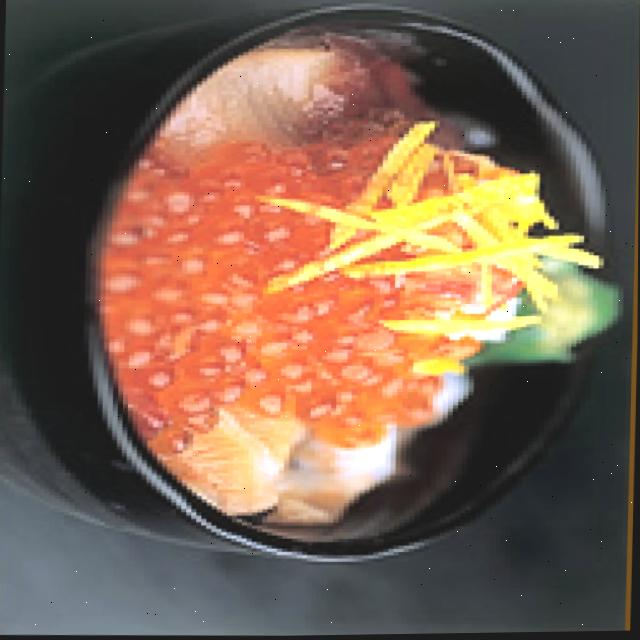刺身生食: (0, 0, 640, 583)
